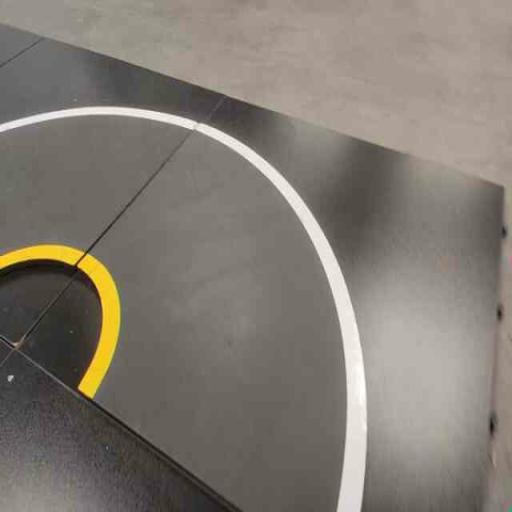left: (19, 108, 453, 511)
